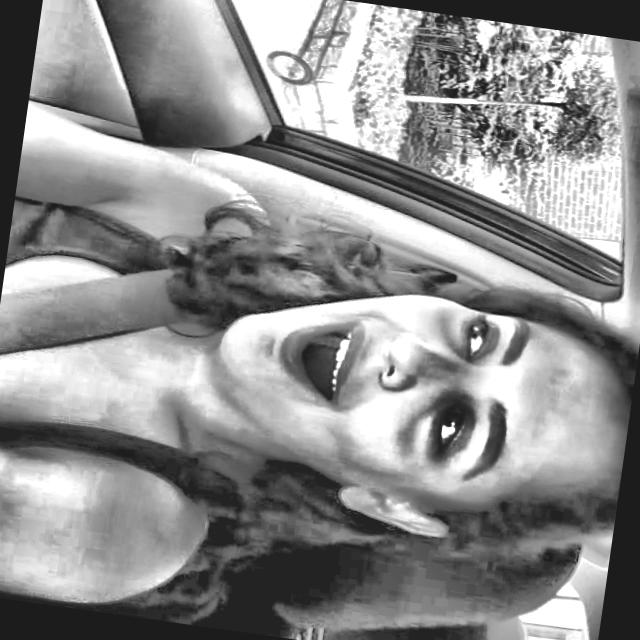open_eyes: (418, 388, 481, 468), (448, 300, 505, 371)
open_mouth: (258, 305, 369, 417)
